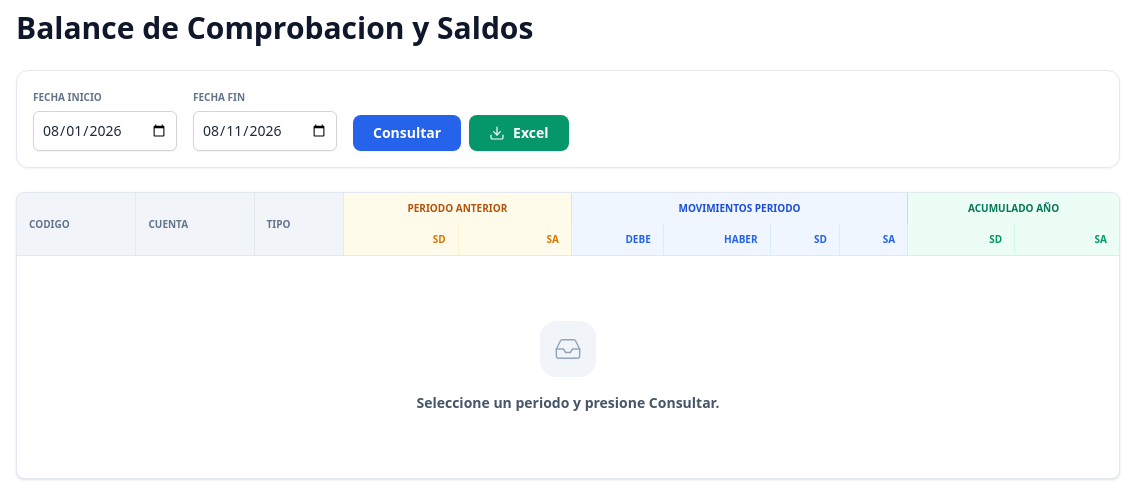
Test case: BalanceComprobacion (vista) › muestra advertencia de balance descuadrado cuando Debe y Haber difieren
Click the button "Consultar" at (407,133), box left=353, top=115, right=461, bottom=151
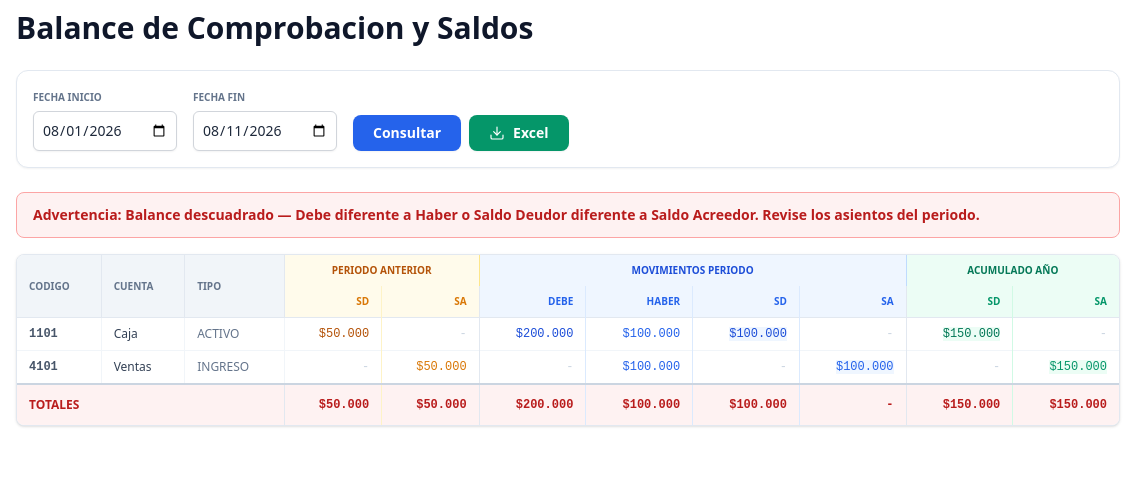
Check: the text "Balance descuadrado" is shown, box left=33, top=205, right=980, bottom=224
